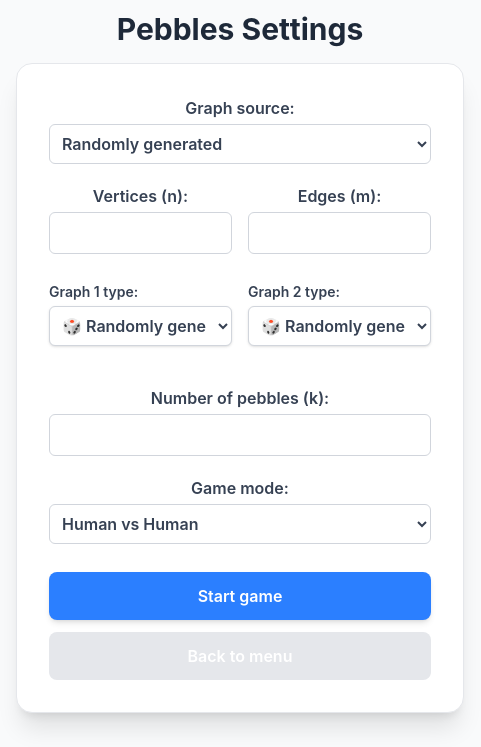
Test: PebblesMenu View › hides V, E and k, then shows file input
Select "Uploaded from file" in the dropdown labelled "Graph source:" at (240, 144), box [49,124,431,164]
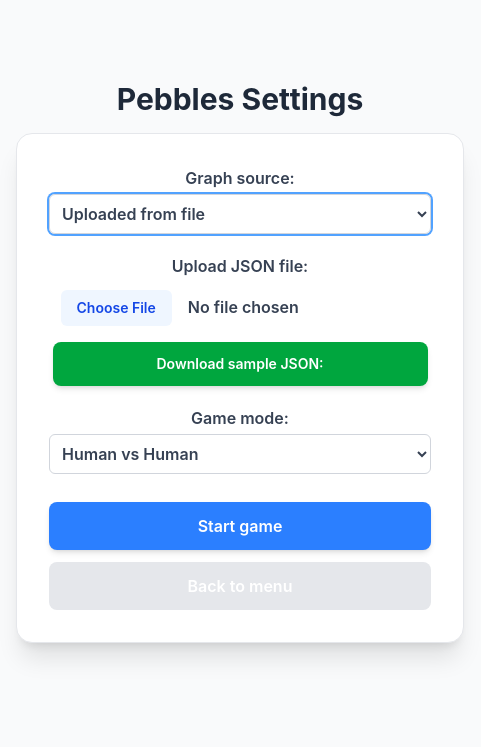
Expected: the text "Vertices (n):" is gone
Expected: the text "Edges (m):" is gone
Expected: the text "Number of pebbles (k):" is gone
